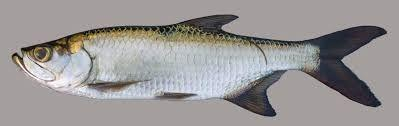Indo-Pacific Tarpon: (12, 14, 389, 117)
